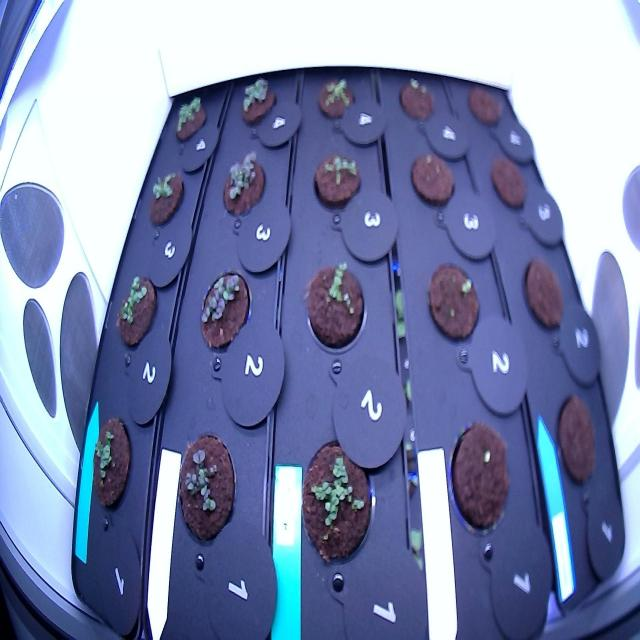germination: (292, 428, 380, 574), (172, 424, 244, 555), (300, 254, 370, 362), (192, 266, 254, 366), (422, 257, 484, 355), (84, 410, 136, 519), (213, 143, 270, 231), (110, 268, 160, 356), (310, 146, 366, 217), (143, 161, 190, 236), (234, 69, 280, 132), (311, 72, 360, 126), (168, 91, 210, 151)
pod: (444, 414, 518, 547), (550, 388, 603, 493), (518, 254, 572, 339), (404, 148, 462, 219), (487, 148, 530, 222), (462, 78, 508, 135), (396, 72, 438, 130)
